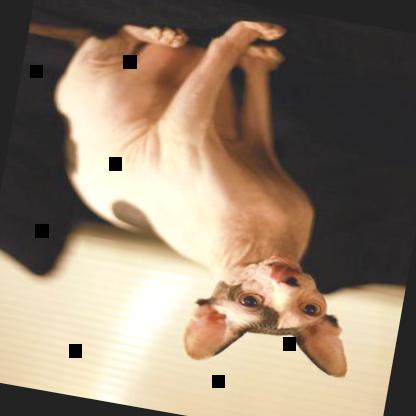cat: (14, 0, 404, 388)
